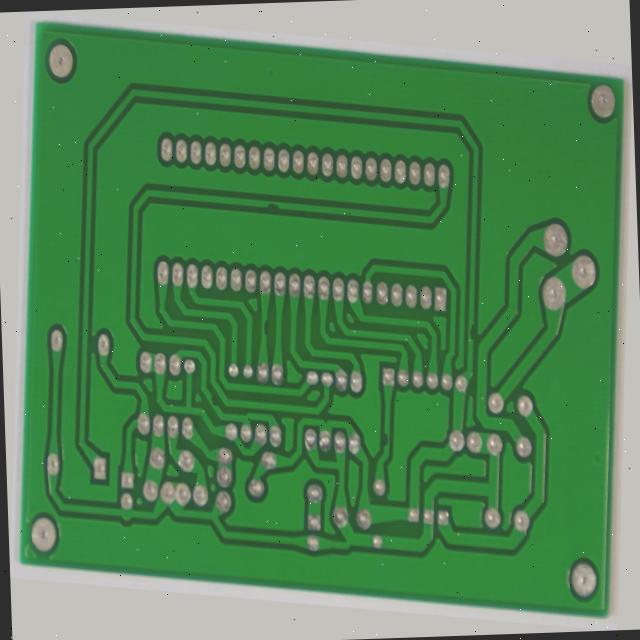mouse_bite: (473, 295, 485, 327), (253, 186, 272, 206), (391, 430, 404, 457), (255, 320, 267, 348), (205, 415, 220, 435)
